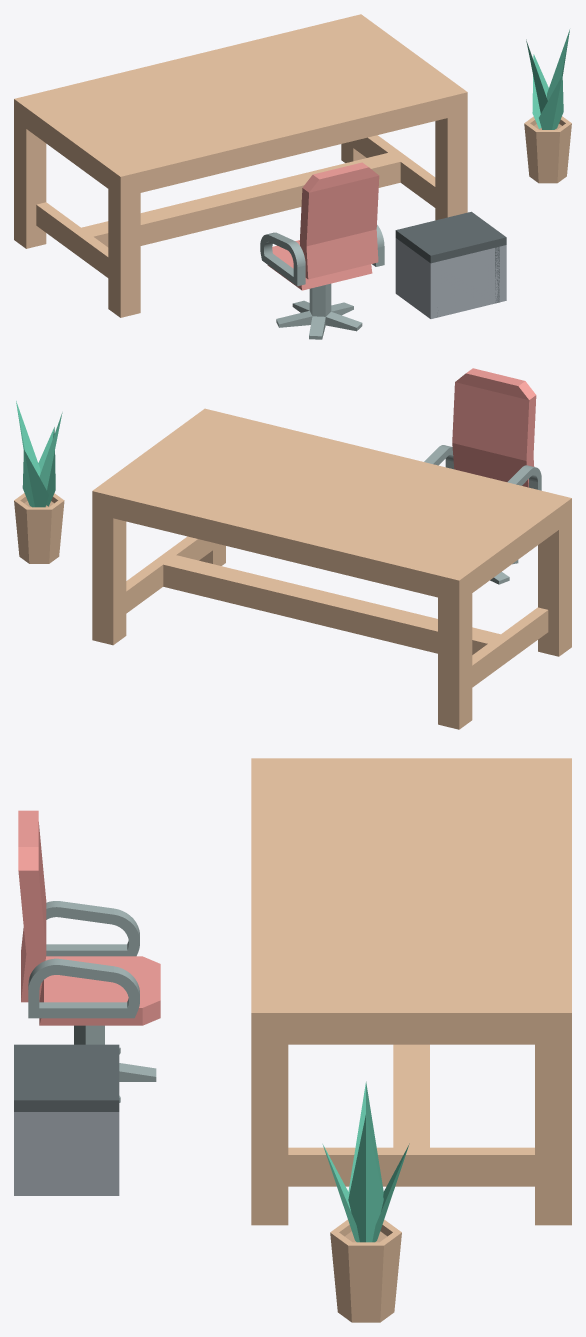
3 renders of one model, top to bottom at view 1: azimuth 30°, elevation 25°; view 2: azimuth 150°, elevation 25°; view 3: azimuth 270°, elevation 25°, orthographic. The views are drawn at different scales.
Visible parts, largest first — view 1: table_green__table(Clone), deskchair_black__chair, crate_red__crate_red shell, crate_red__crate_red lid, plant_pink__pottedPlant(Clone), deskchair_black__chairDesk(Clone), plant_pink__plant; view 2: table_green__table(Clone), deskchair_black__chair, plant_pink__pottedPlant(Clone), plant_pink__plant; view 3: table_green__table(Clone), deskchair_black__chair, crate_red__crate_red shell, crate_red__crate_red lid, plant_pink__pottedPlant(Clone), plant_pink__plant, deskchair_black__chairDesk(Clone).
Boxes of the visible parts, x1,y1,x2,y2 form: table_green__table(Clone): [14, 14, 467, 317]; deskchair_black__chair: [260, 162, 384, 290]; crate_red__crate_red shell: [395, 238, 506, 318]; crate_red__crate_red lid: [395, 211, 506, 263]; plant_pink__pottedPlant(Clone): [524, 116, 571, 183]; deskchair_black__chairDesk(Clone): [276, 283, 362, 339]; plant_pink__plant: [526, 29, 569, 129]; table_green__table(Clone): [92, 408, 571, 729]; deskchair_black__chair: [424, 368, 541, 490]; plant_pink__pottedPlant(Clone): [14, 493, 64, 563]; plant_pink__plant: [16, 401, 62, 507]; table_green__table(Clone): [251, 758, 571, 1225]; deskchair_black__chair: [18, 810, 160, 1025]; crate_red__crate_red shell: [14, 1112, 119, 1195]; crate_red__crate_red lid: [14, 1044, 119, 1111]; plant_pink__pottedPlant(Clone): [330, 1219, 401, 1322]; plant_pink__plant: [322, 1081, 409, 1242]; deskchair_black__chairDesk(Clone): [74, 1025, 156, 1102].
Size of the model in its own units: 2.72 by 0.8826 by 1.79.
